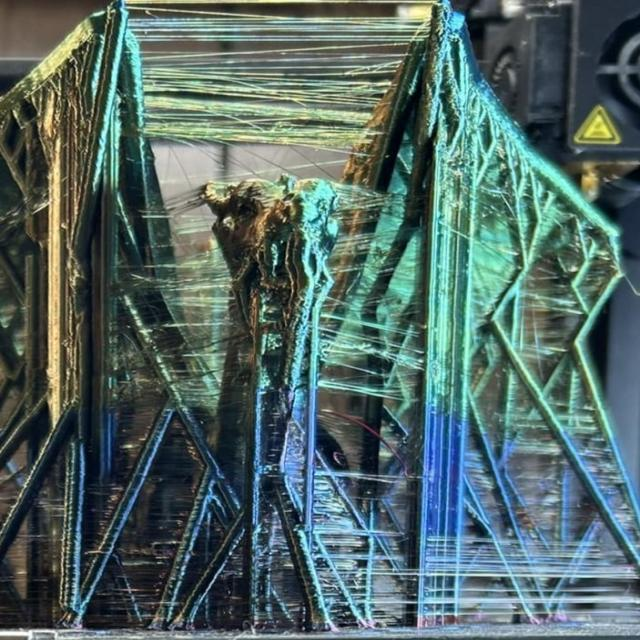stringing: (131, 3, 423, 73), (152, 72, 378, 142), (319, 300, 421, 388), (427, 552, 619, 588), (127, 261, 233, 325)
